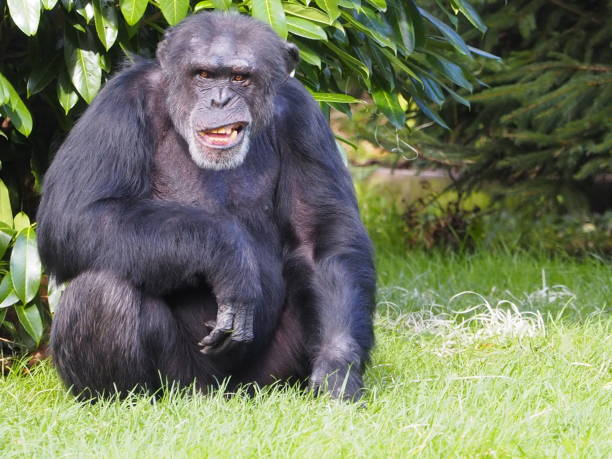chimpanzee: (133, 5, 314, 176)
